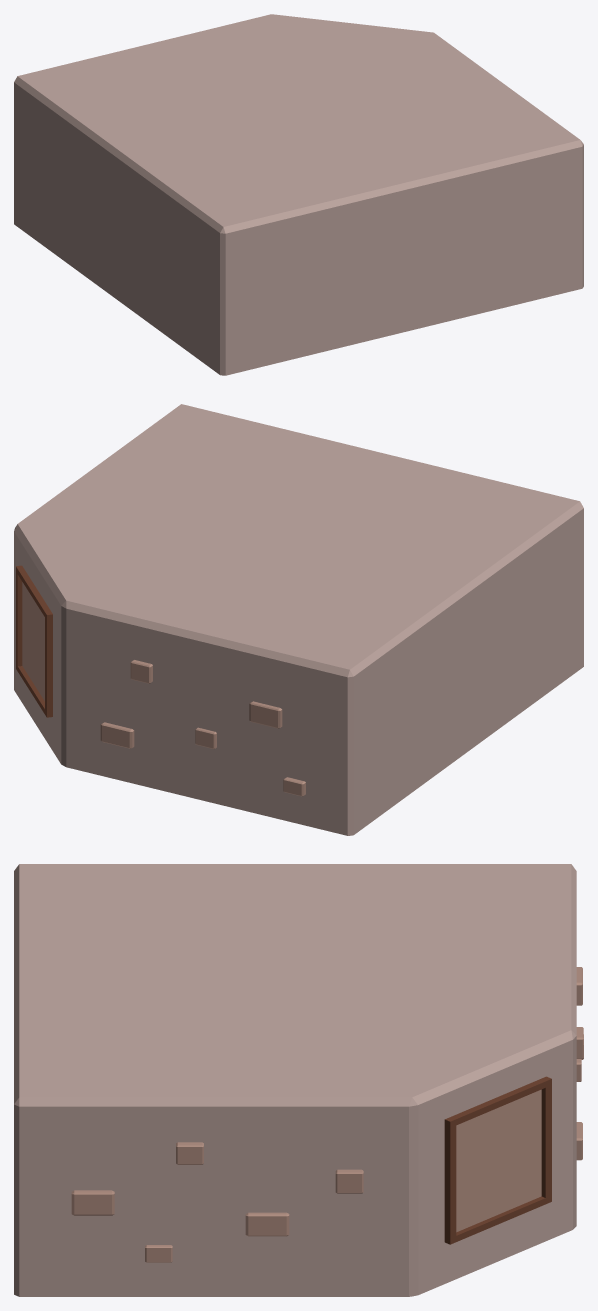
File: library-wall.fbx
3 views of the same model, one above another, from view 1: azimuth 30°, elevation 25°; view 2: azimuth 150°, elevation 25°; view 3: azimuth 270°, elevation 25° (orthographic). The views are drawn at different scales.
Parts seen in each view (by area): view 1: Wall; view 2: Wall, Cube.001, Cube.002; view 3: Wall, Cube.008, Cube.007, Cube.006, Cube.009.
Part boxes in pixels (box(x1,y1,x2,y2)): Wall: box(14, 14, 583, 375); Wall: box(14, 404, 583, 835); Cube.001: box(249, 701, 282, 728); Cube.002: box(100, 722, 134, 748); Wall: box(14, 864, 576, 1296); Cube.008: box(71, 1190, 114, 1215); Cube.007: box(245, 1212, 289, 1236); Cube.006: box(335, 1169, 363, 1193); Cube.009: box(176, 1142, 203, 1164).
Size of the model in its own units: 2144 by 825 by 2139.
